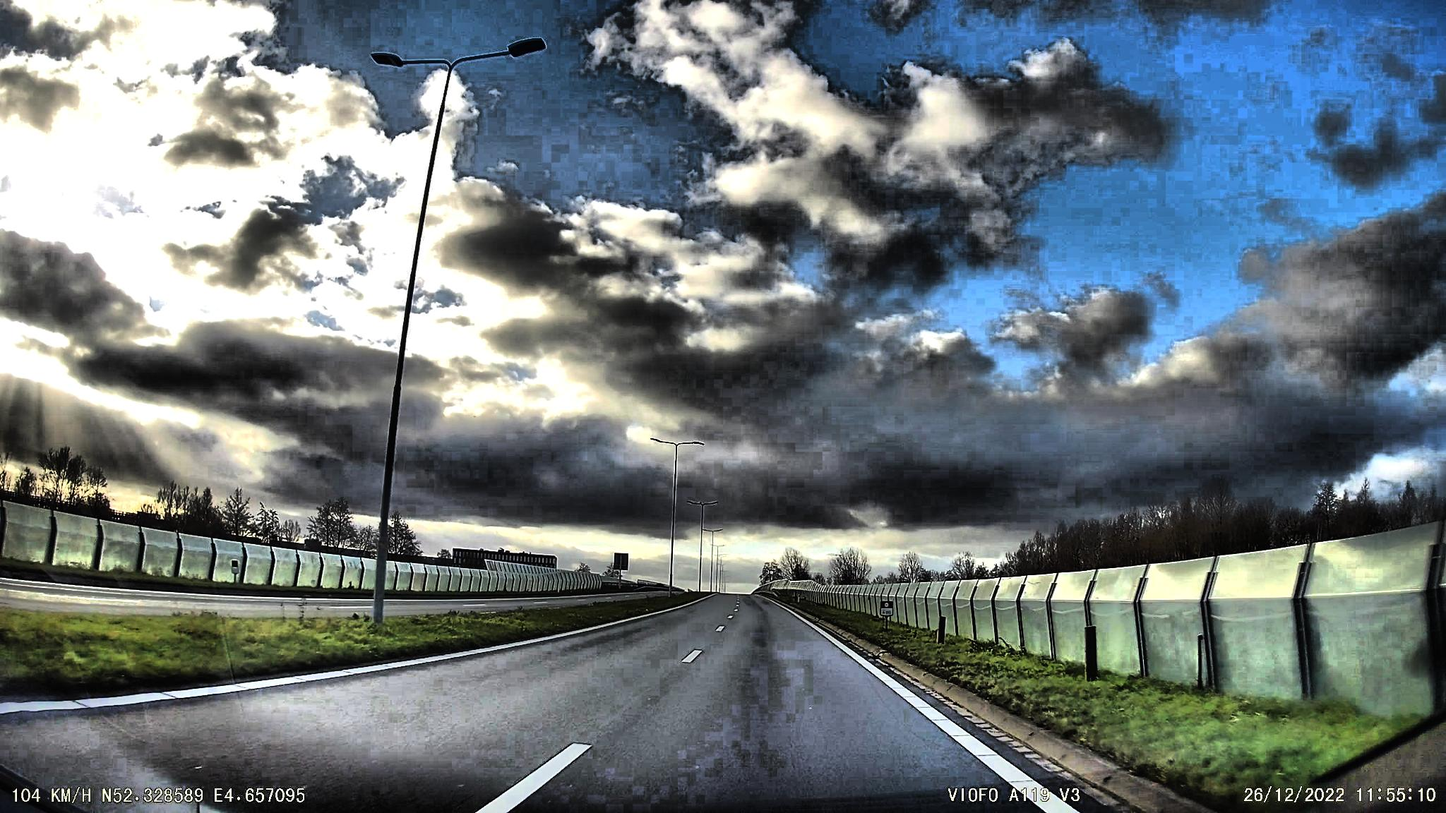Roads: (0, 596, 1221, 813)
